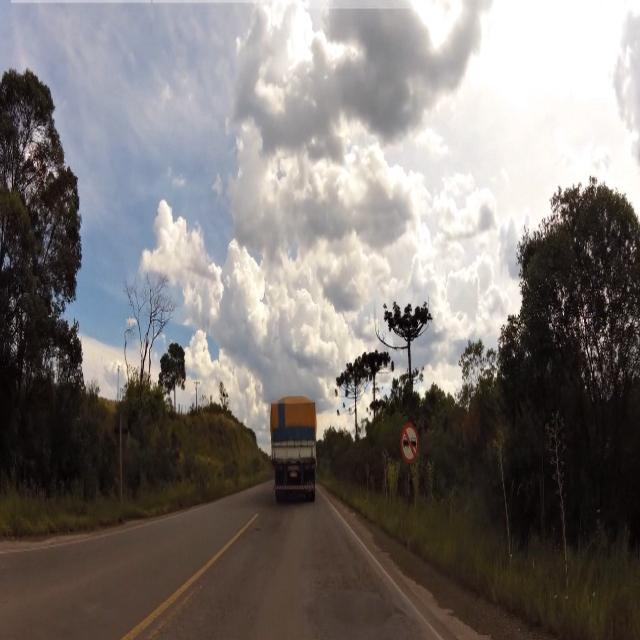R-7: (402, 420, 419, 465)
